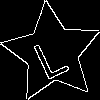L: (27, 28, 71, 81)
